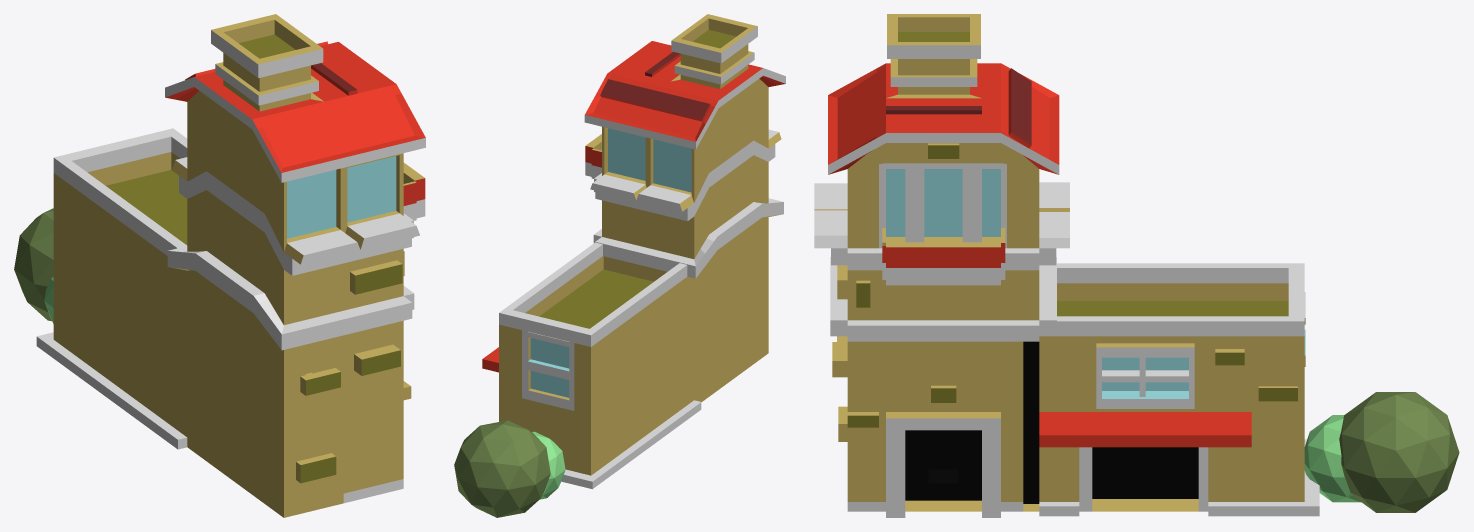
File: house2.fbx
The picture shows the model from 3 angles, left to right: view 1: azimuth 30°, elevation 25°; view 2: azimuth 150°, elevation 25°; view 3: azimuth 270°, elevation 25°; orthographic projection. The views are drawn at different scales.
Parts seen in each view (by area): view 1: Cube; view 2: Cube; view 3: Cube.
Part boxes in pixels (x1,y1,x2,y2): Cube: [14, 14, 425, 517]; Cube: [454, 14, 785, 517]; Cube: [814, 14, 1459, 517].
Bounding box in the file's own units: 301 × 741 × 941.
